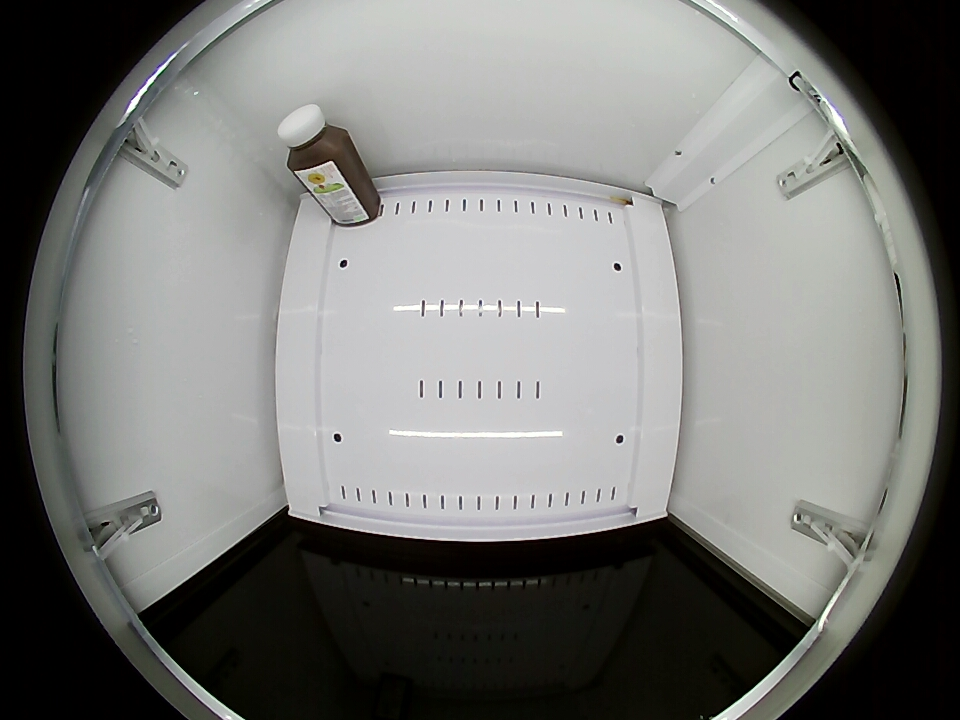youyanggudong: (279, 104, 349, 174)
